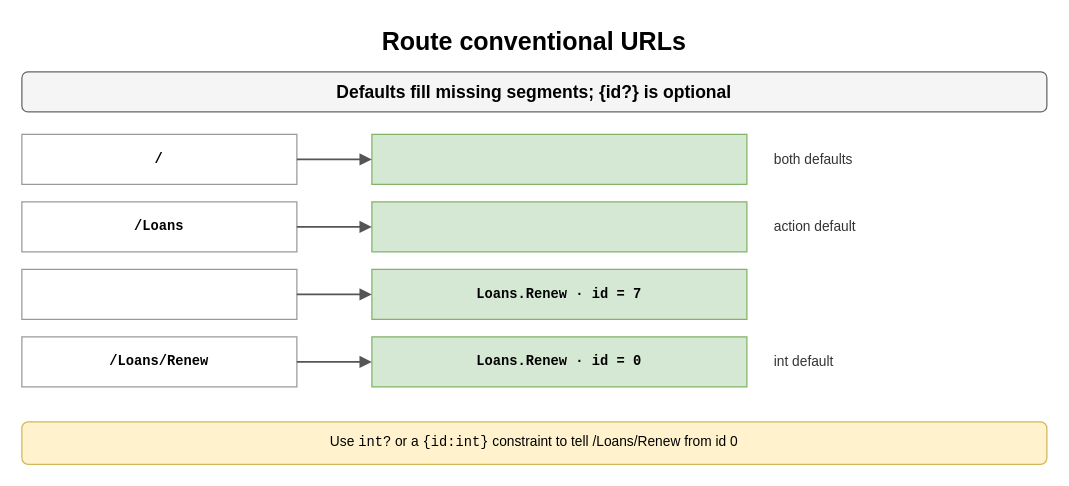
The diagram is 1069 pixels wide and 486 high, and some of its shapes have lost their labels. Each missing label, with the box of its shape:
/Loans/Renew/7: (21, 268, 297, 319)
Home.Index: (371, 133, 747, 184)
Loans.Index: (371, 201, 747, 252)
